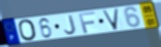6: (123, 5, 143, 29), (38, 17, 54, 39)
F: (78, 11, 97, 35)
J: (64, 14, 78, 36)
O: (17, 19, 39, 42)
V: (101, 8, 121, 31)
